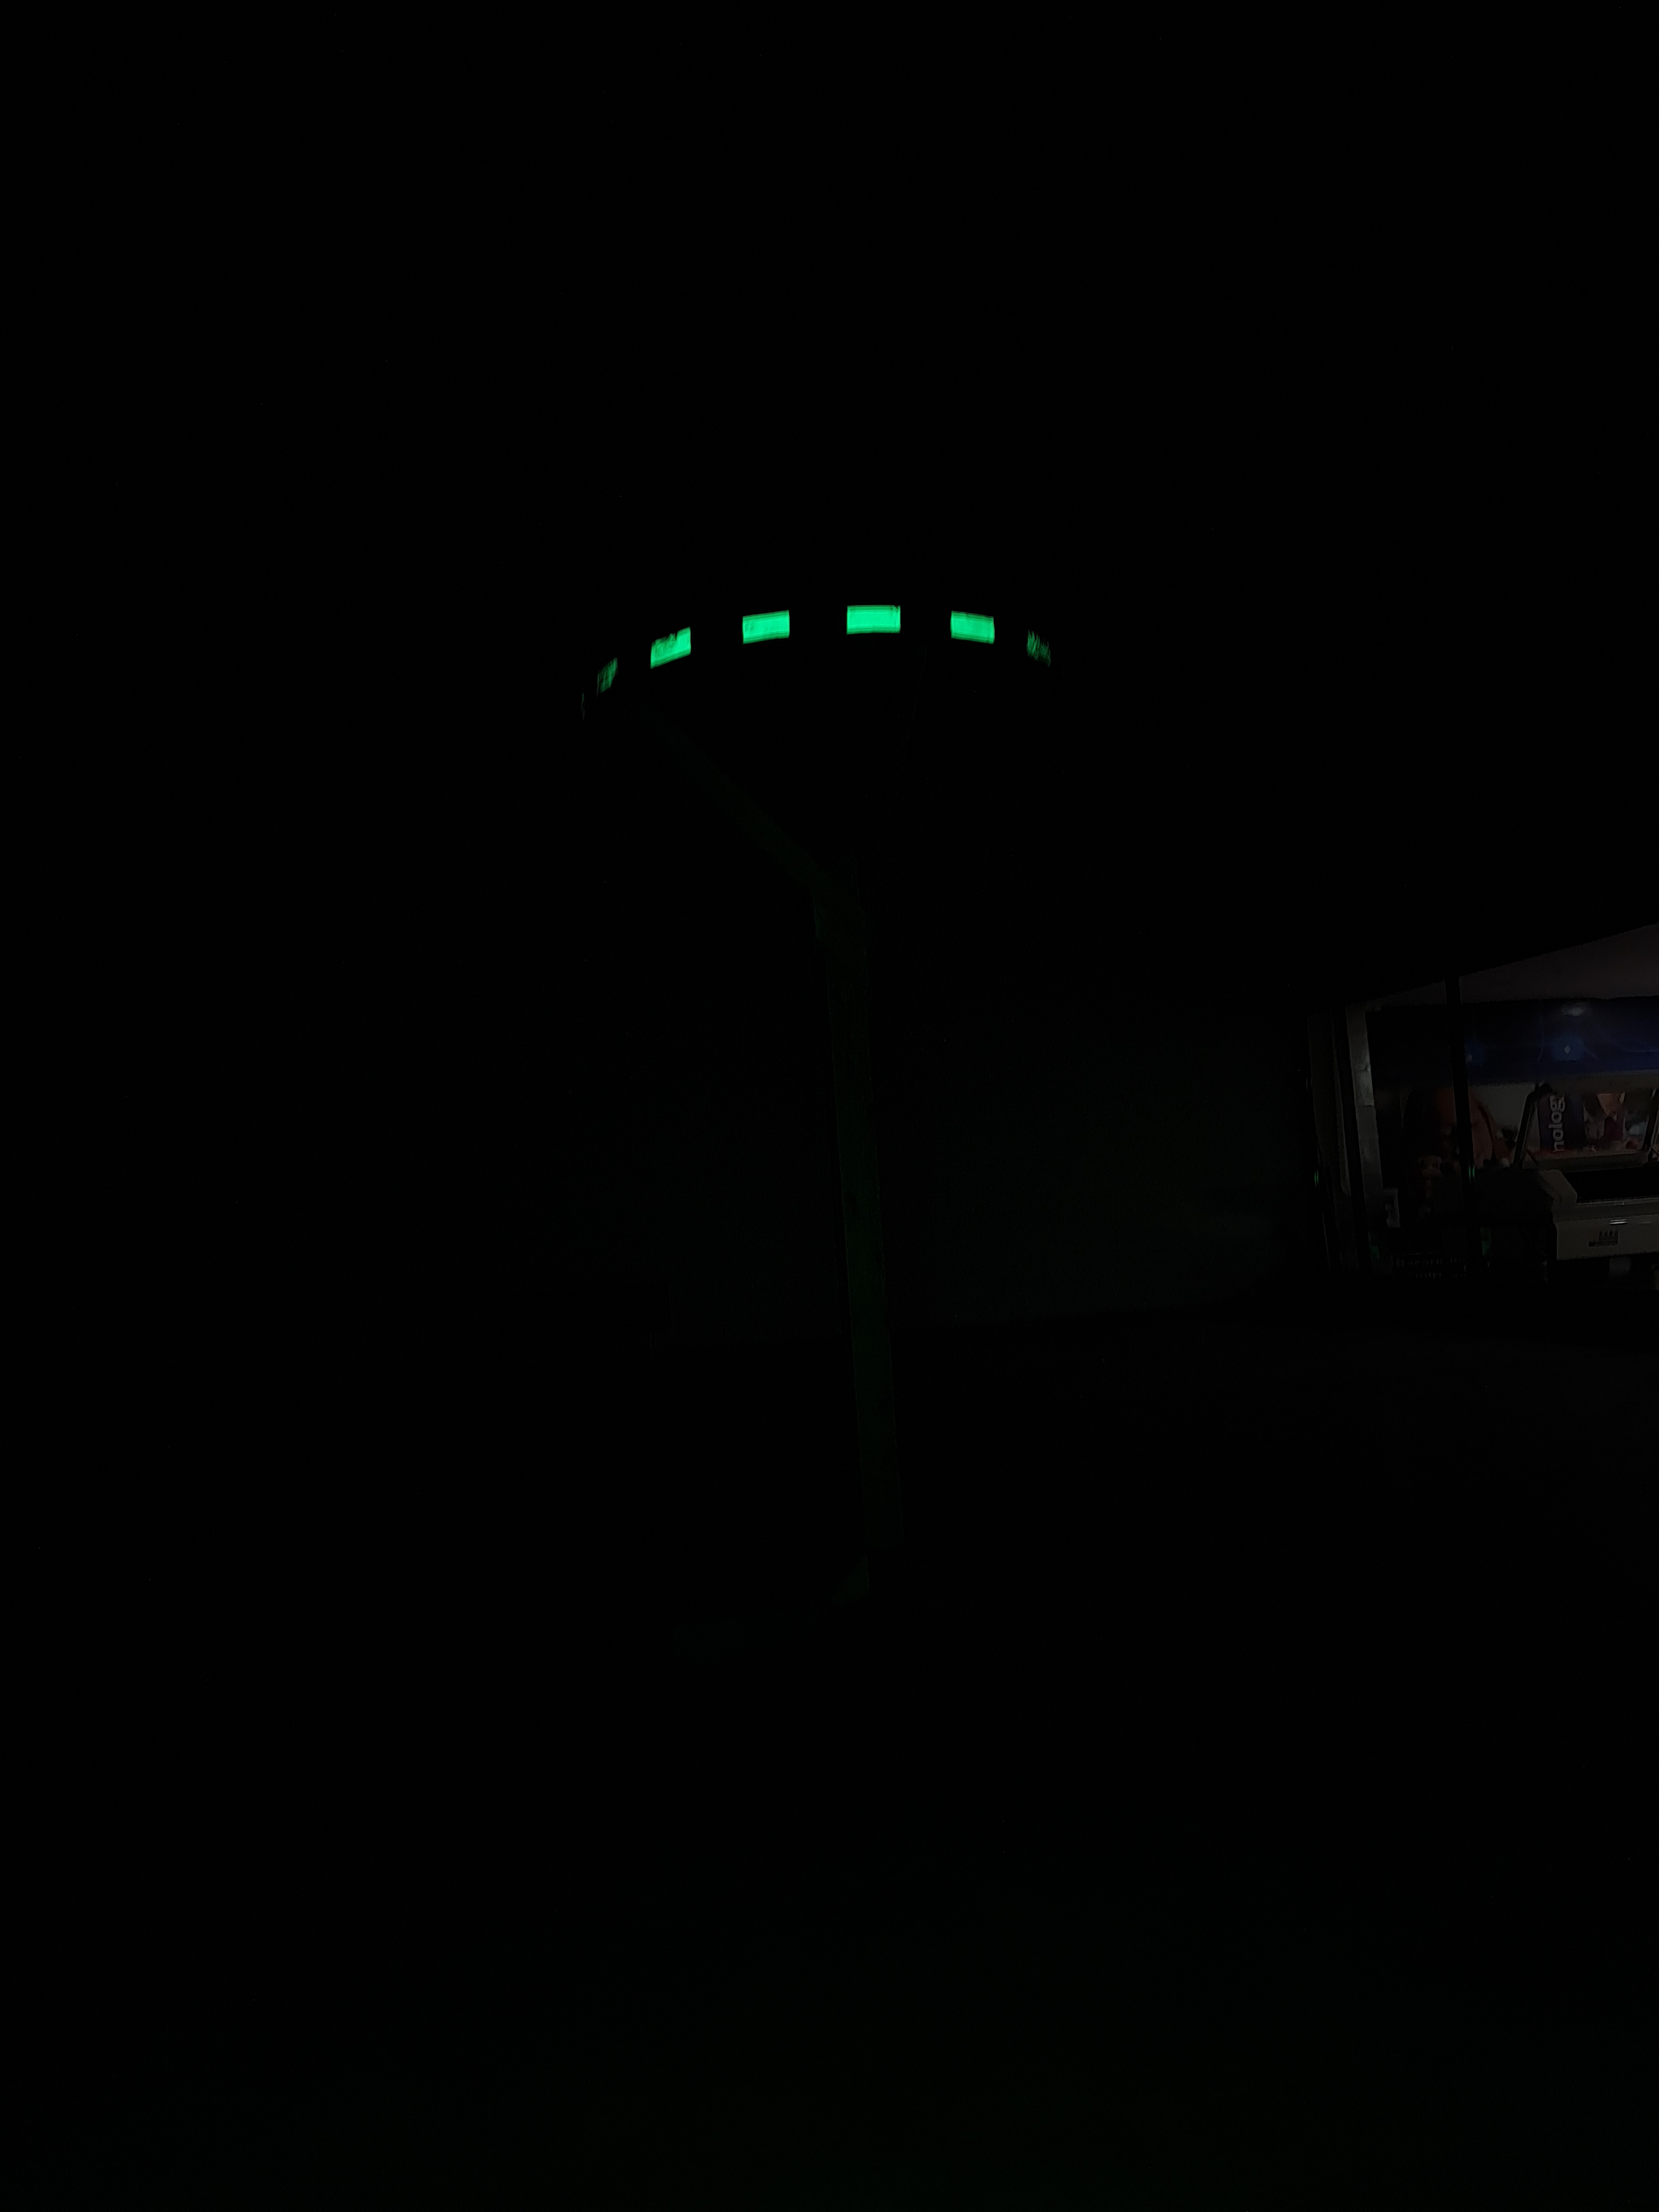hoop: (558, 603, 1080, 691)
